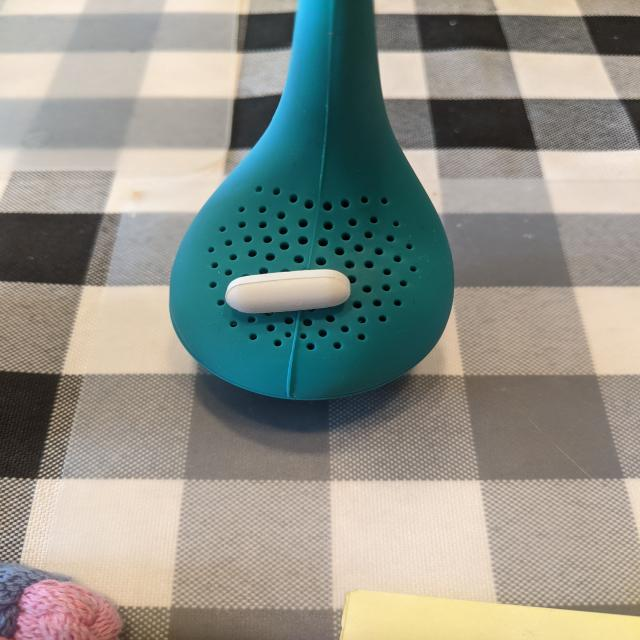non-organic waste: (224, 268, 352, 314)
